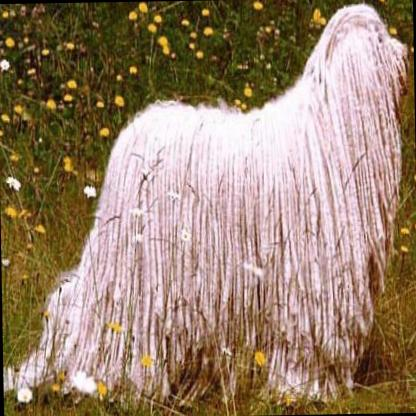komondor: (0, 0, 413, 408)
